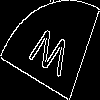W: (24, 25, 72, 87)
